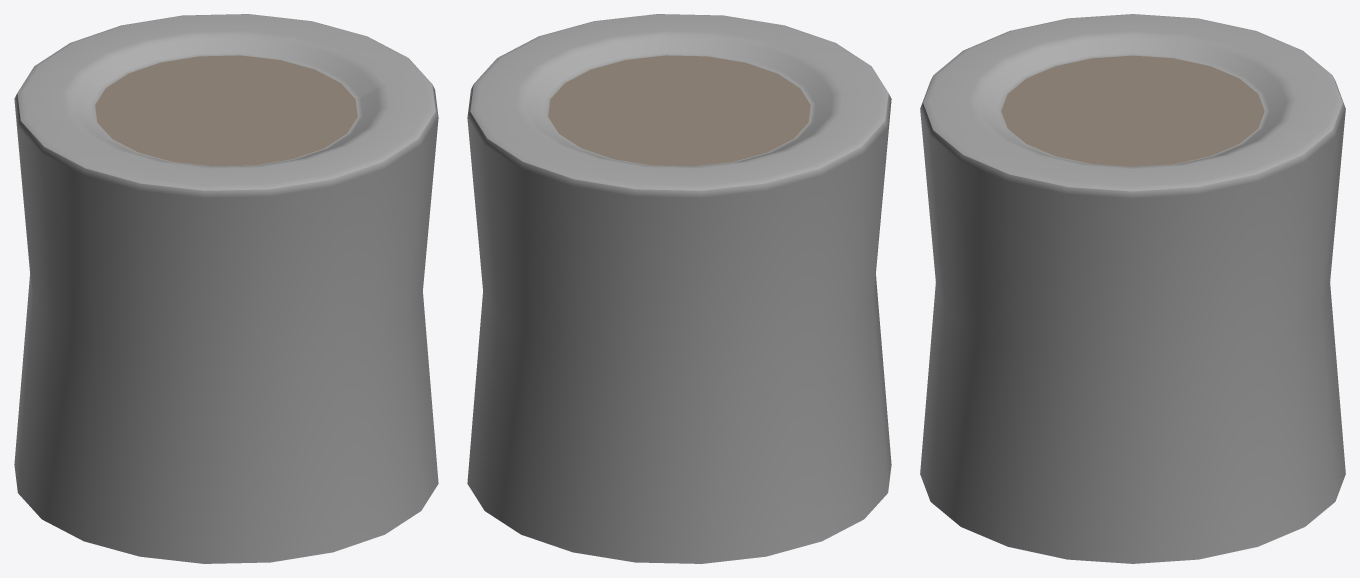
Rendered from M_TreePlatform1stDraft 1.fbx.
3 views of the same model, side by side, from view 1: azimuth 30°, elevation 25°; view 2: azimuth 150°, elevation 25°; view 3: azimuth 270°, elevation 25° (orthographic).
Parts seen in each view (by area): view 1: pCylinder2; view 2: pCylinder2; view 3: pCylinder2.
Part boxes in pixels (box(x1,y1,x2,y2)): pCylinder2: box(14, 14, 438, 563); pCylinder2: box(467, 14, 891, 563); pCylinder2: box(920, 14, 1345, 563).
Bounding box in the file's own units: 3.46 × 3.35 × 3.46.
